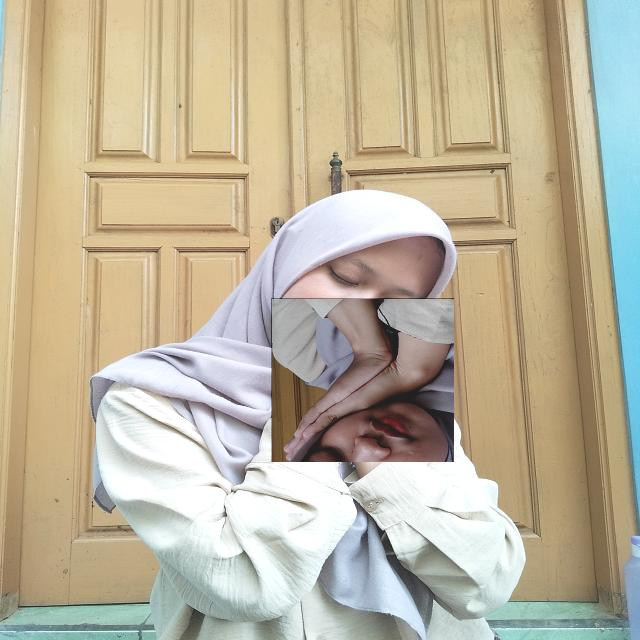tidur: (271, 298, 454, 462)
